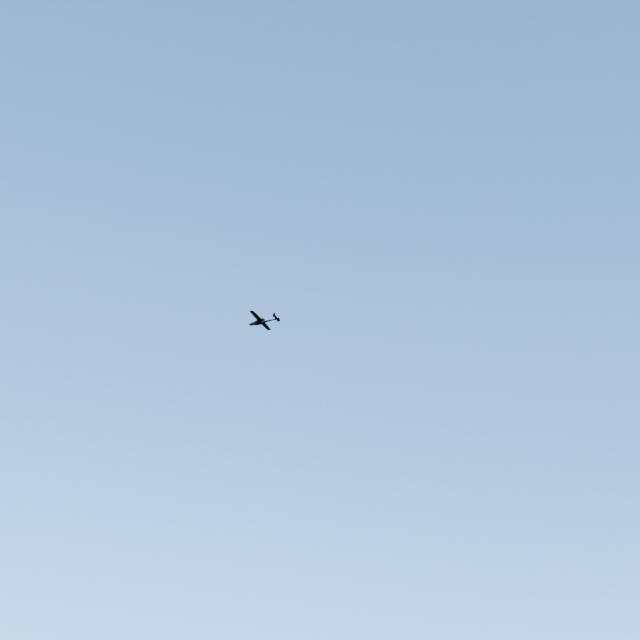Airaplan: (249, 310, 280, 330)
